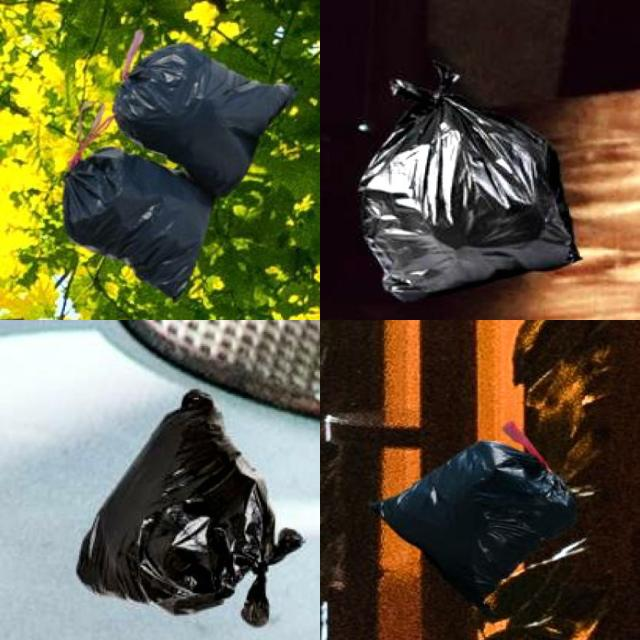Single-layer Plastic: (78, 390, 304, 626), (359, 64, 580, 301), (372, 421, 576, 605), (114, 30, 296, 196), (64, 149, 212, 299)
